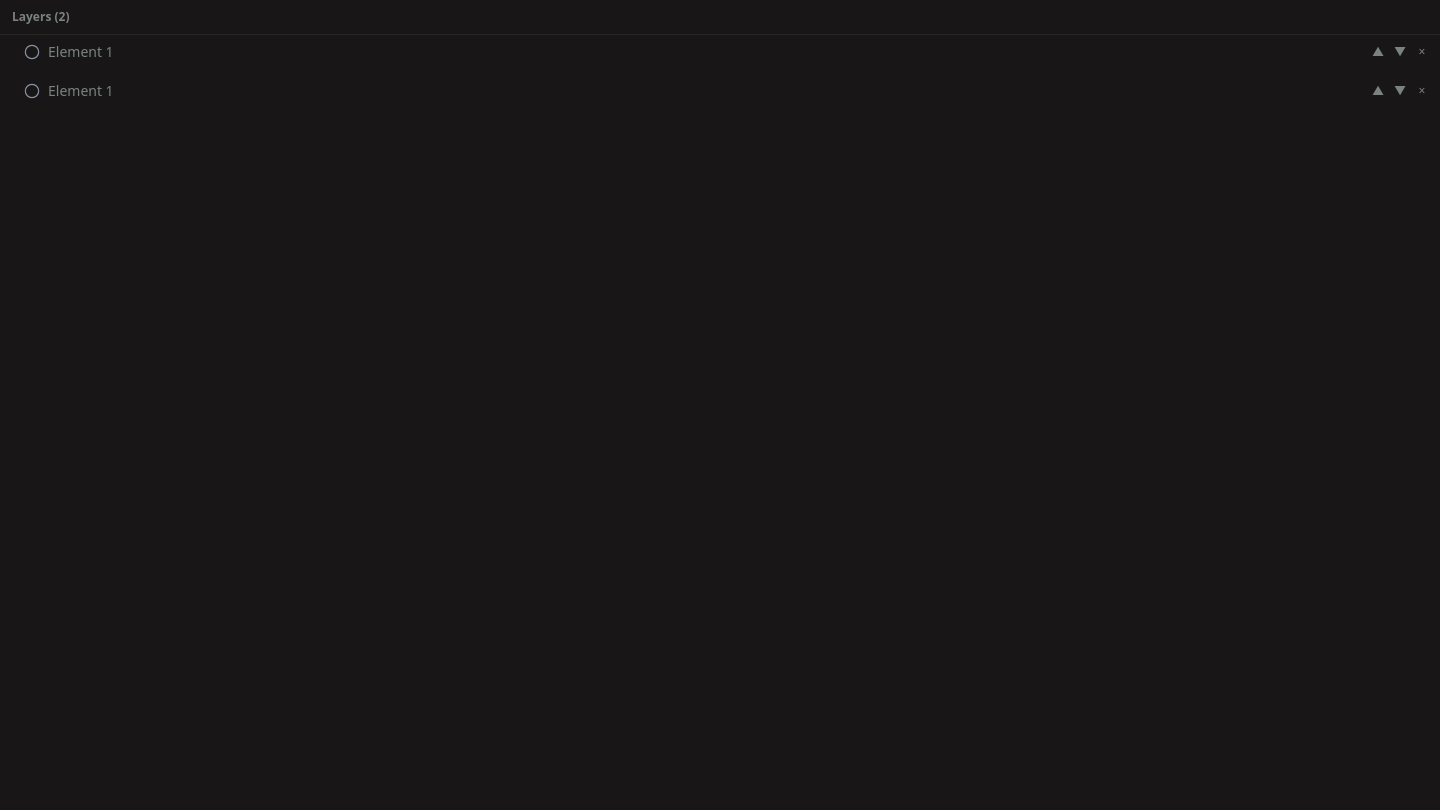
Test: LayersPanel context menu › opens the menu positioned at the contextmenu event coordinates
Right-click the element with test id "design-layer-elem_a" at coordinates (81, 52), box [0,35,1439,68]
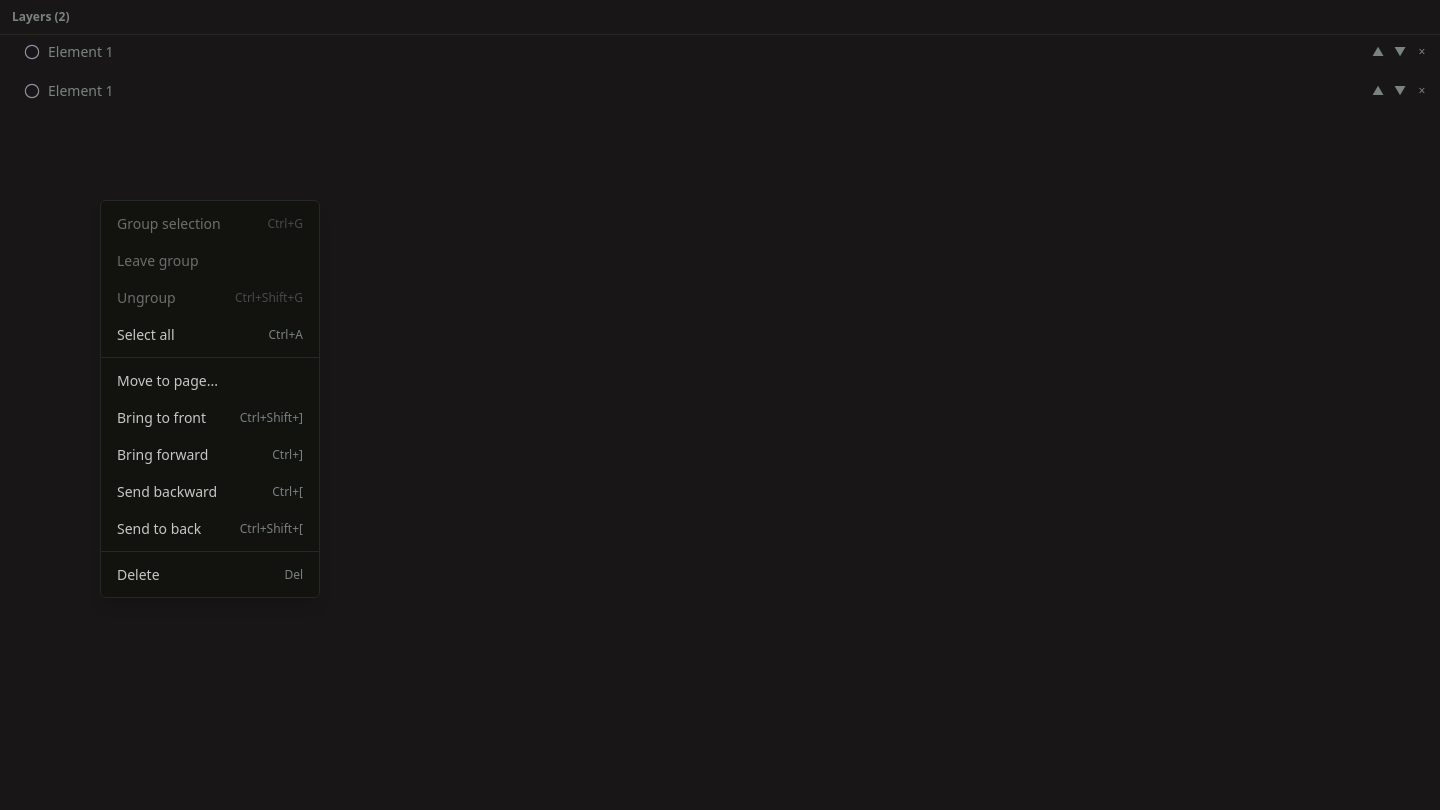
Expected: the element with test id "design-context-menu" is shown, [100,200,320,598]
